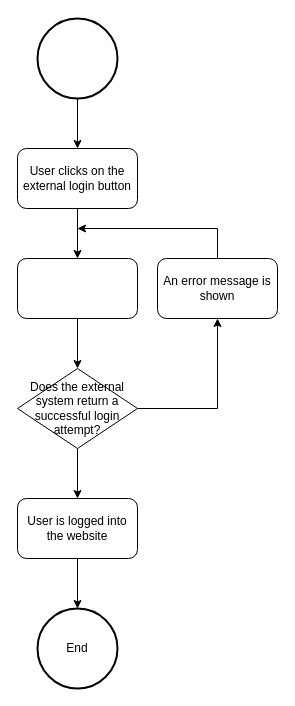
The diagram is 295 pixels wide and 706 high, and some of its shapes have lost their labels. The shapes that lost their labels are listed below. From the top down, each one's centre as x and y in pixels, then its label:
(77,58): Start
(77,288): User chooses an external service for login
